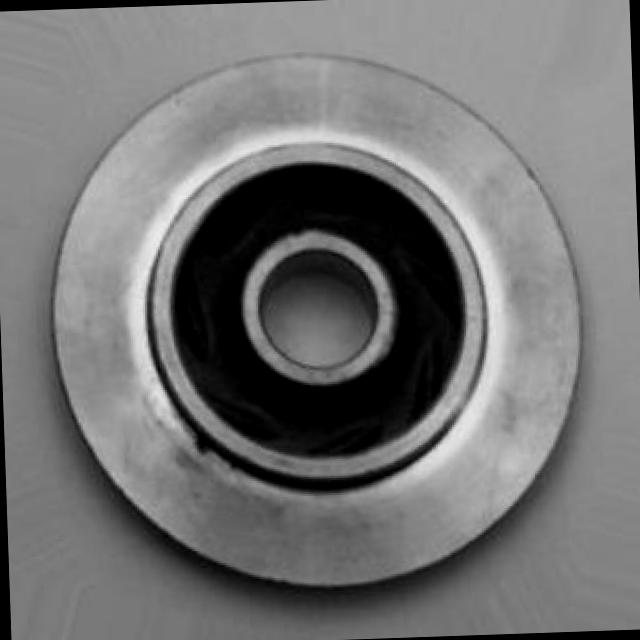Defect: (192, 434, 213, 458)
